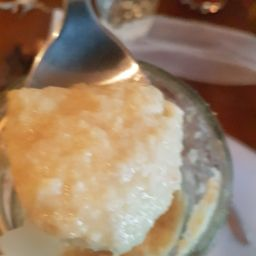Ginger garlic paste: (3, 86, 191, 246), (93, 114, 223, 256)
